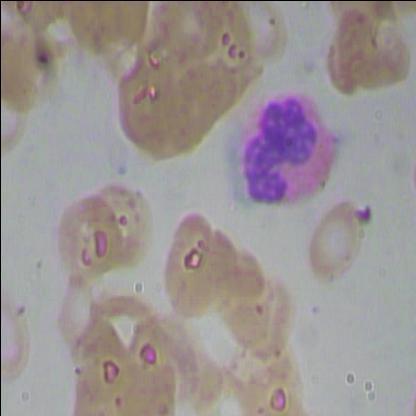RBC: (110, 53, 190, 156), (112, 325, 192, 415), (299, 197, 375, 291), (51, 187, 127, 281), (86, 176, 162, 270), (33, 264, 109, 358), (160, 204, 222, 316), (319, 5, 385, 106), (0, 19, 64, 110), (145, 1, 227, 70), (233, 343, 310, 415), (193, 211, 241, 321), (215, 233, 263, 343), (232, 250, 280, 360), (252, 254, 300, 364), (229, 1, 295, 68), (1, 67, 40, 157), (1, 290, 35, 386)
WBC: (238, 86, 343, 216)
